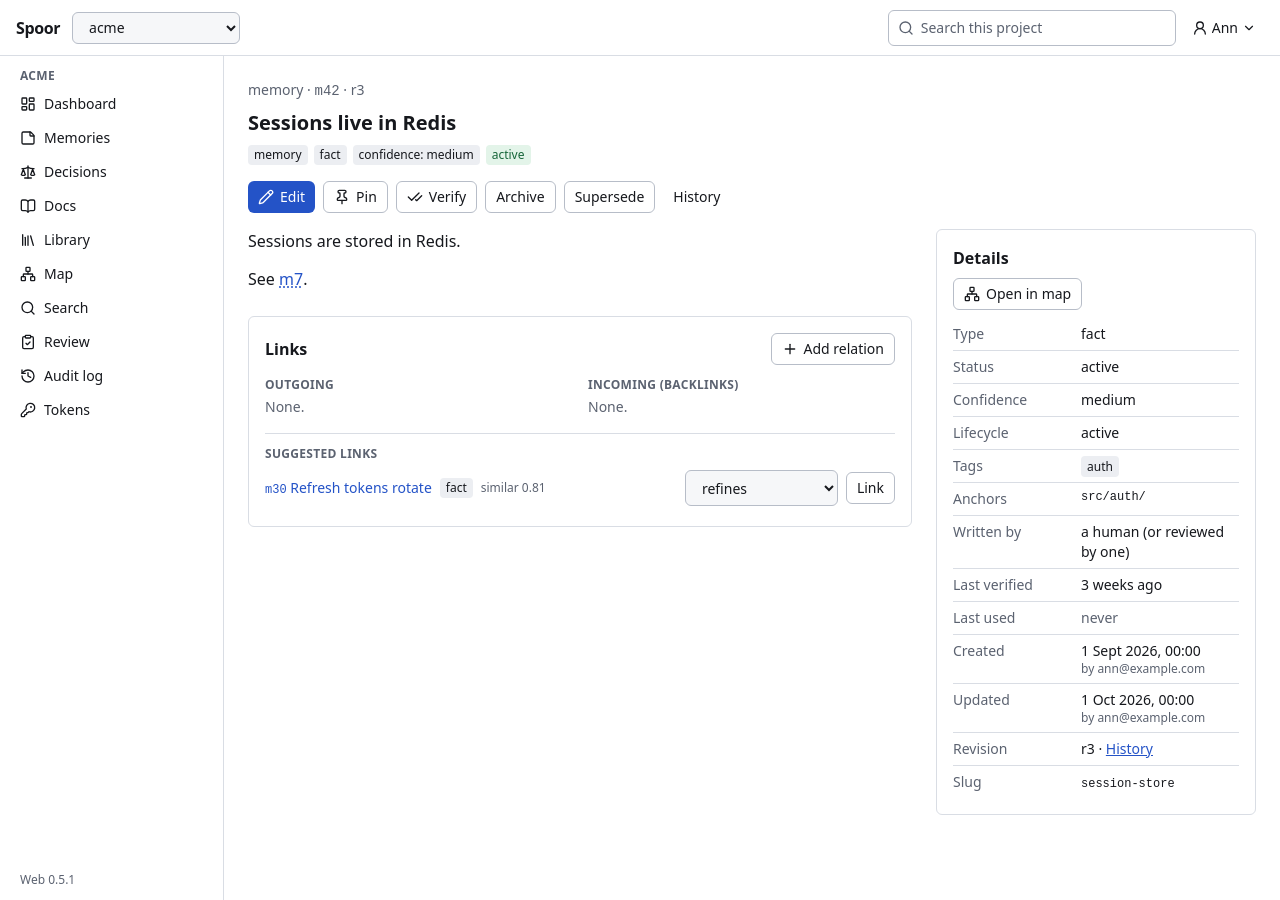
Test: LinksPanel suggested links › lets a writer link a suggestion with a kind, then the row disappears
Expected: the heading "Suggested links" is shown, [265,445,377,462]
Expected: the text "similar 0.81" is shown, [481,480,546,496]
Select "supports" in the dropdown named "Relation kind for m30" in the row of "m30" at (761, 488), box [685,470,838,506]
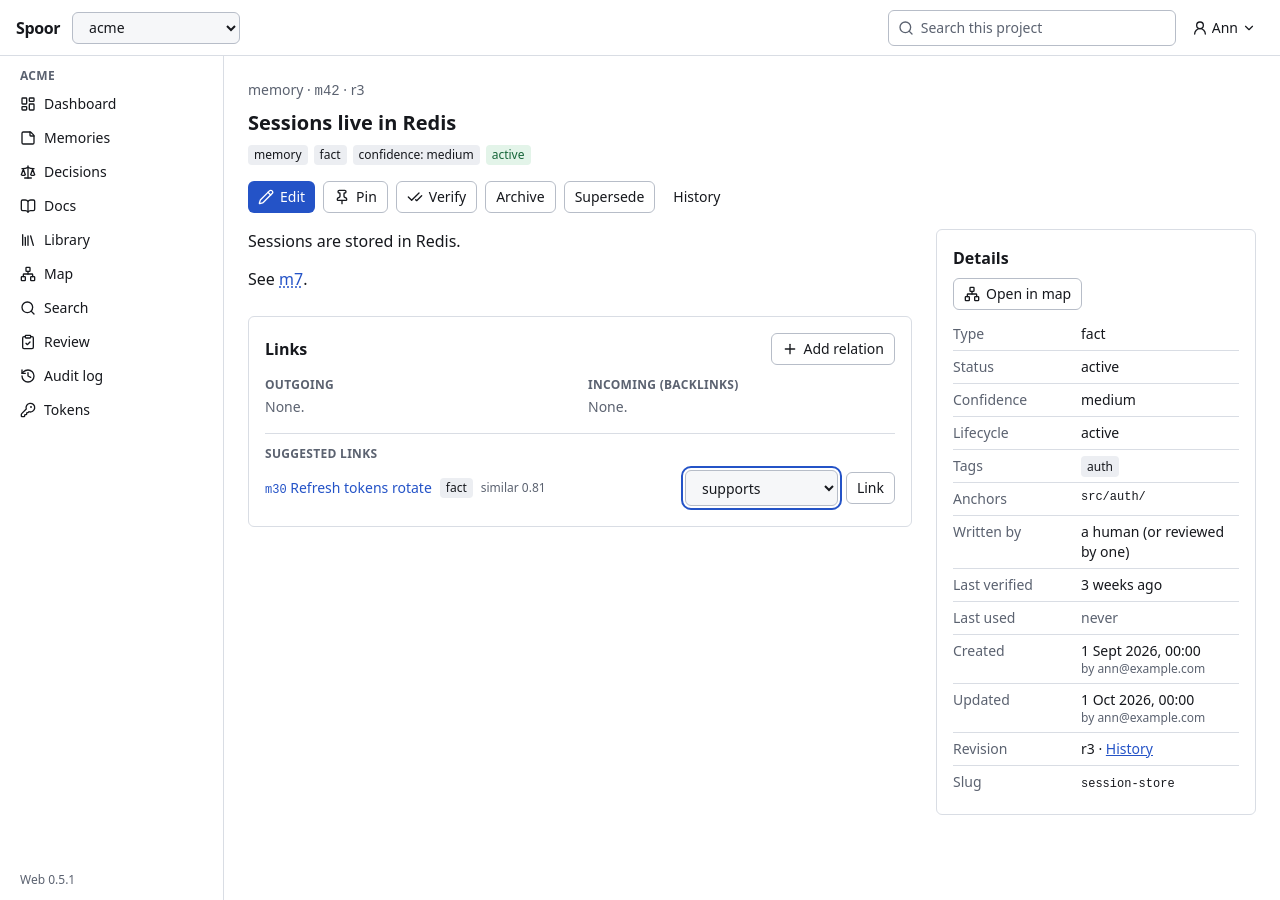
Click the button with aria-label "Link m30" at (870, 488), box [846,472,895,504]
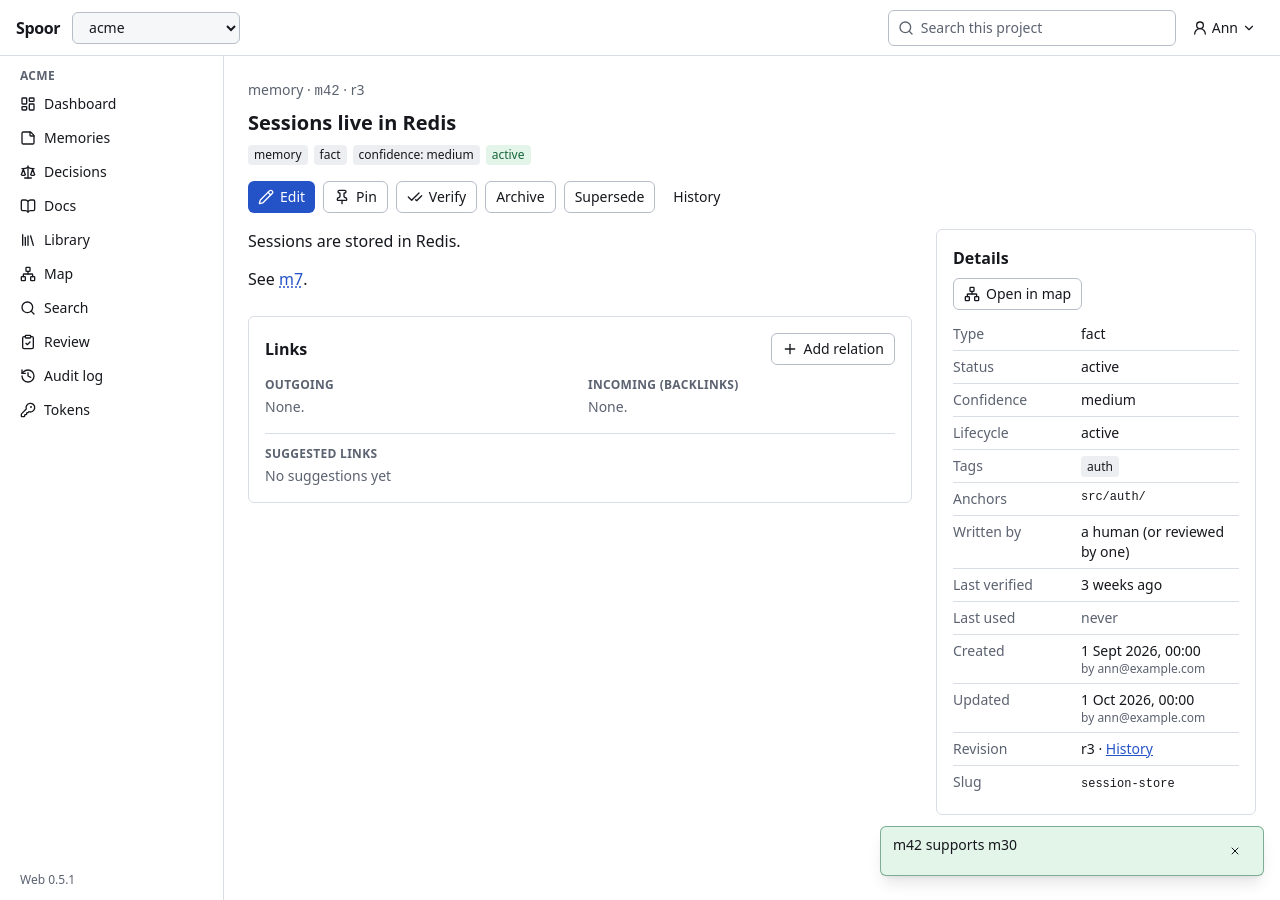
Now the text "No suggestions yet" is shown, box [265,466,391,485]
